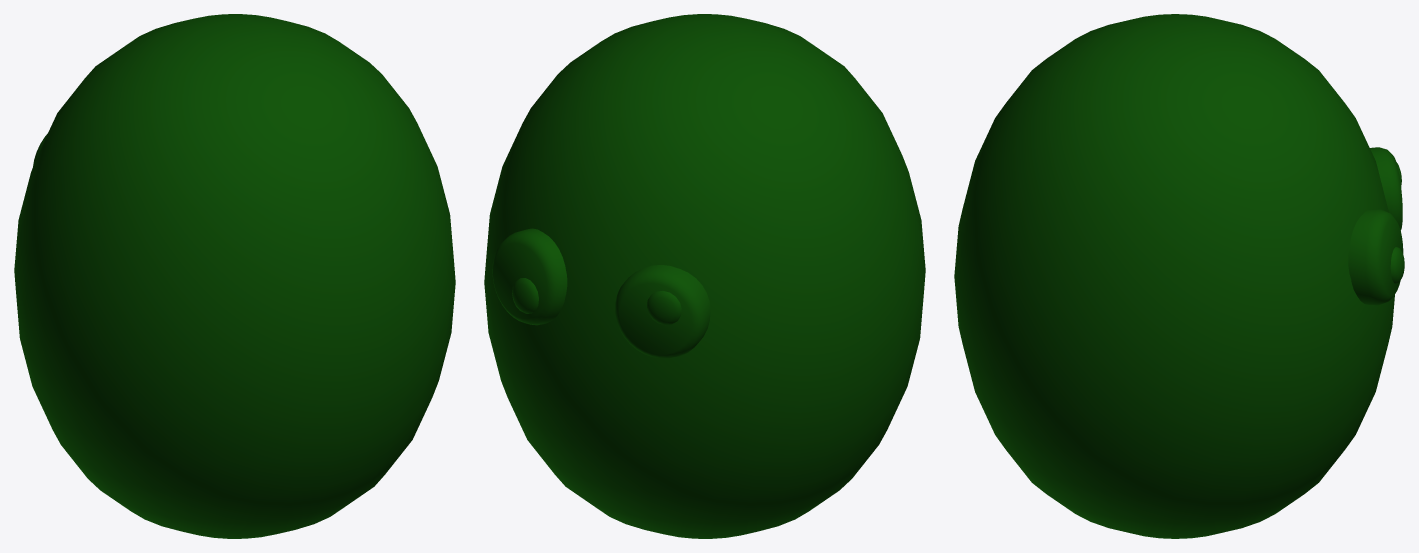
The model's file is Melon.fbx.
3 views of the same model, side by side, from view 1: azimuth 30°, elevation 25°; view 2: azimuth 150°, elevation 25°; view 3: azimuth 270°, elevation 25° (orthographic).
Visible parts, largest first — view 1: Melon; view 2: Melon; view 3: Melon.
Boxes of the visible parts, left/top/right/bottom form: Melon: left=14, top=14, right=455, bottom=538; Melon: left=484, top=14, right=925, bottom=538; Melon: left=954, top=14, right=1404, bottom=538.
Bounding box in the file's own units: 200 × 241 × 204.
